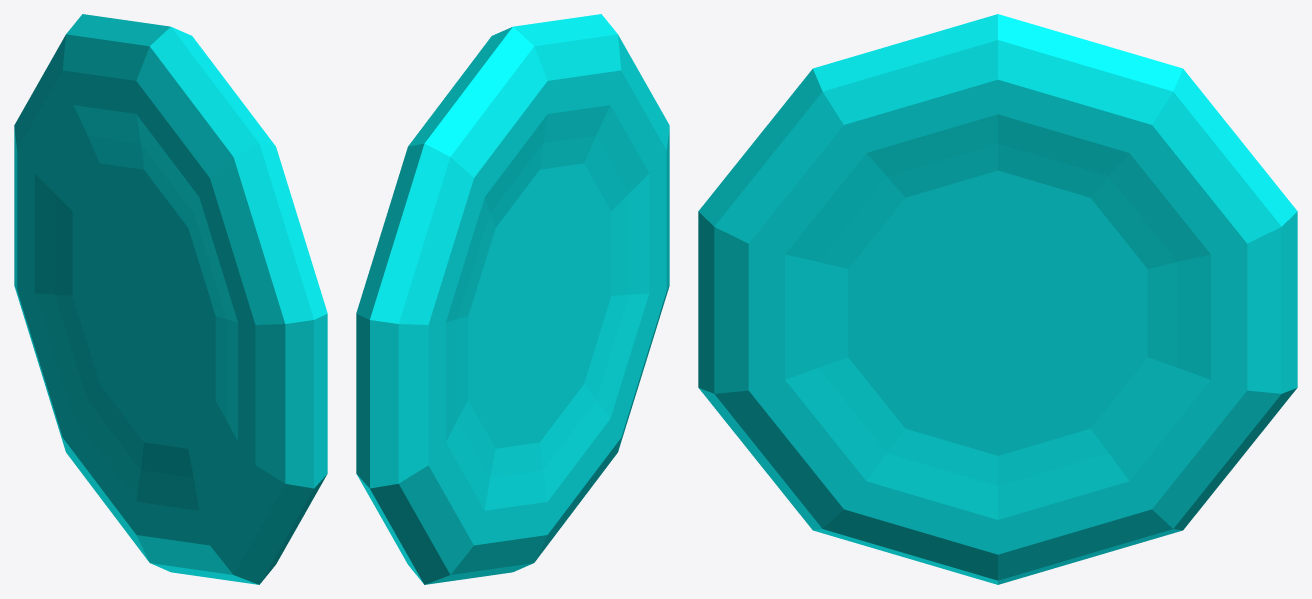
The model's file is projectile 1.fbx.
The picture shows the model from 3 angles, left to right: view 1: azimuth 30°, elevation 25°; view 2: azimuth 150°, elevation 25°; view 3: azimuth 270°, elevation 25°; orthographic projection. The views are drawn at different scales.
Parts seen in each view (by area): view 1: Cylinder; view 2: Cylinder; view 3: Cylinder.
Part boxes in pixels (x1=…): Cylinder: x1=14, y1=14, x2=327, y2=584; Cylinder: x1=356, y1=14, x2=669, y2=584; Cylinder: x1=698, y1=14, x2=1297, y2=584.
Size of the model in its own units: 18.85 by 142 by 135.
